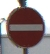No entry: (5, 6, 45, 49)
